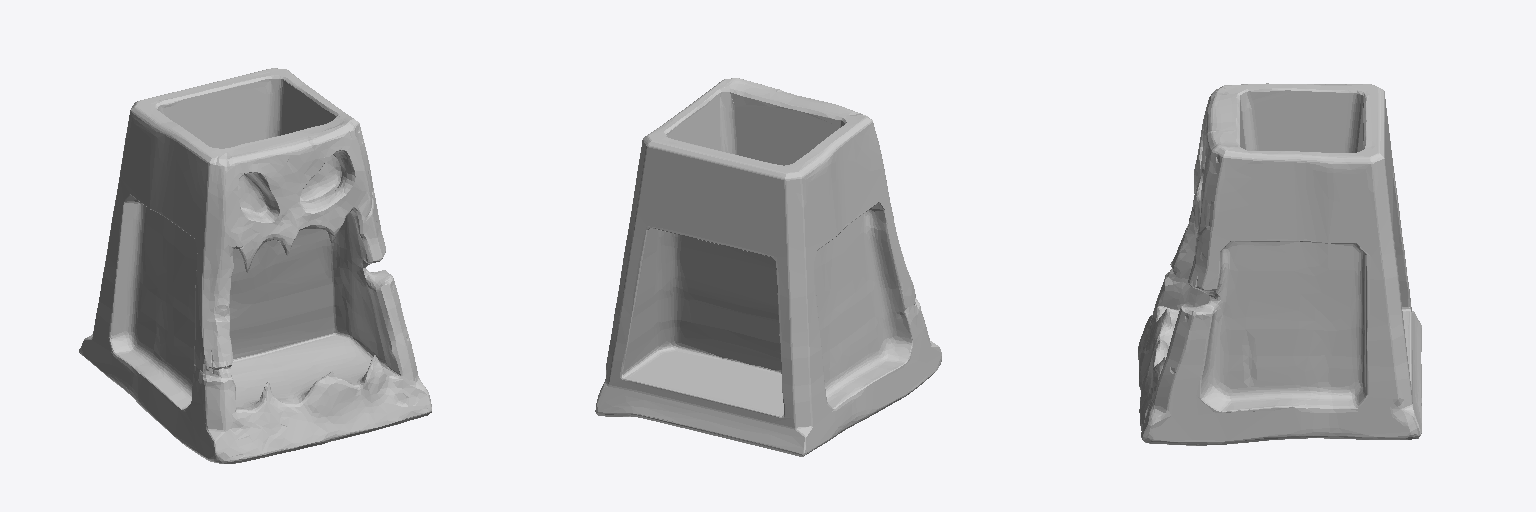
The model's file is Vorabmodel_Laterne.obj.
3 views of the same model, side by side, from view 1: azimuth 30°, elevation 25°; view 2: azimuth 150°, elevation 25°; view 3: azimuth 270°, elevation 25° (orthographic).
Bounding box in the file's own units: 1.01 × 1.24 × 1.14.